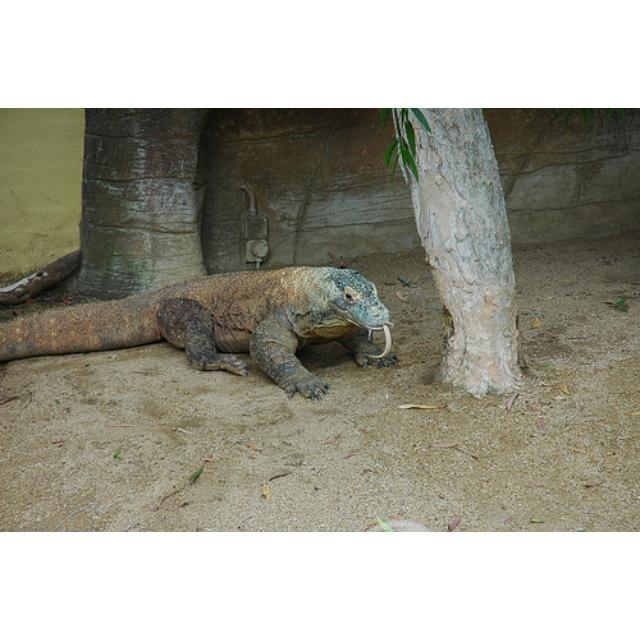KomodoDragon: (0, 263, 392, 399)
